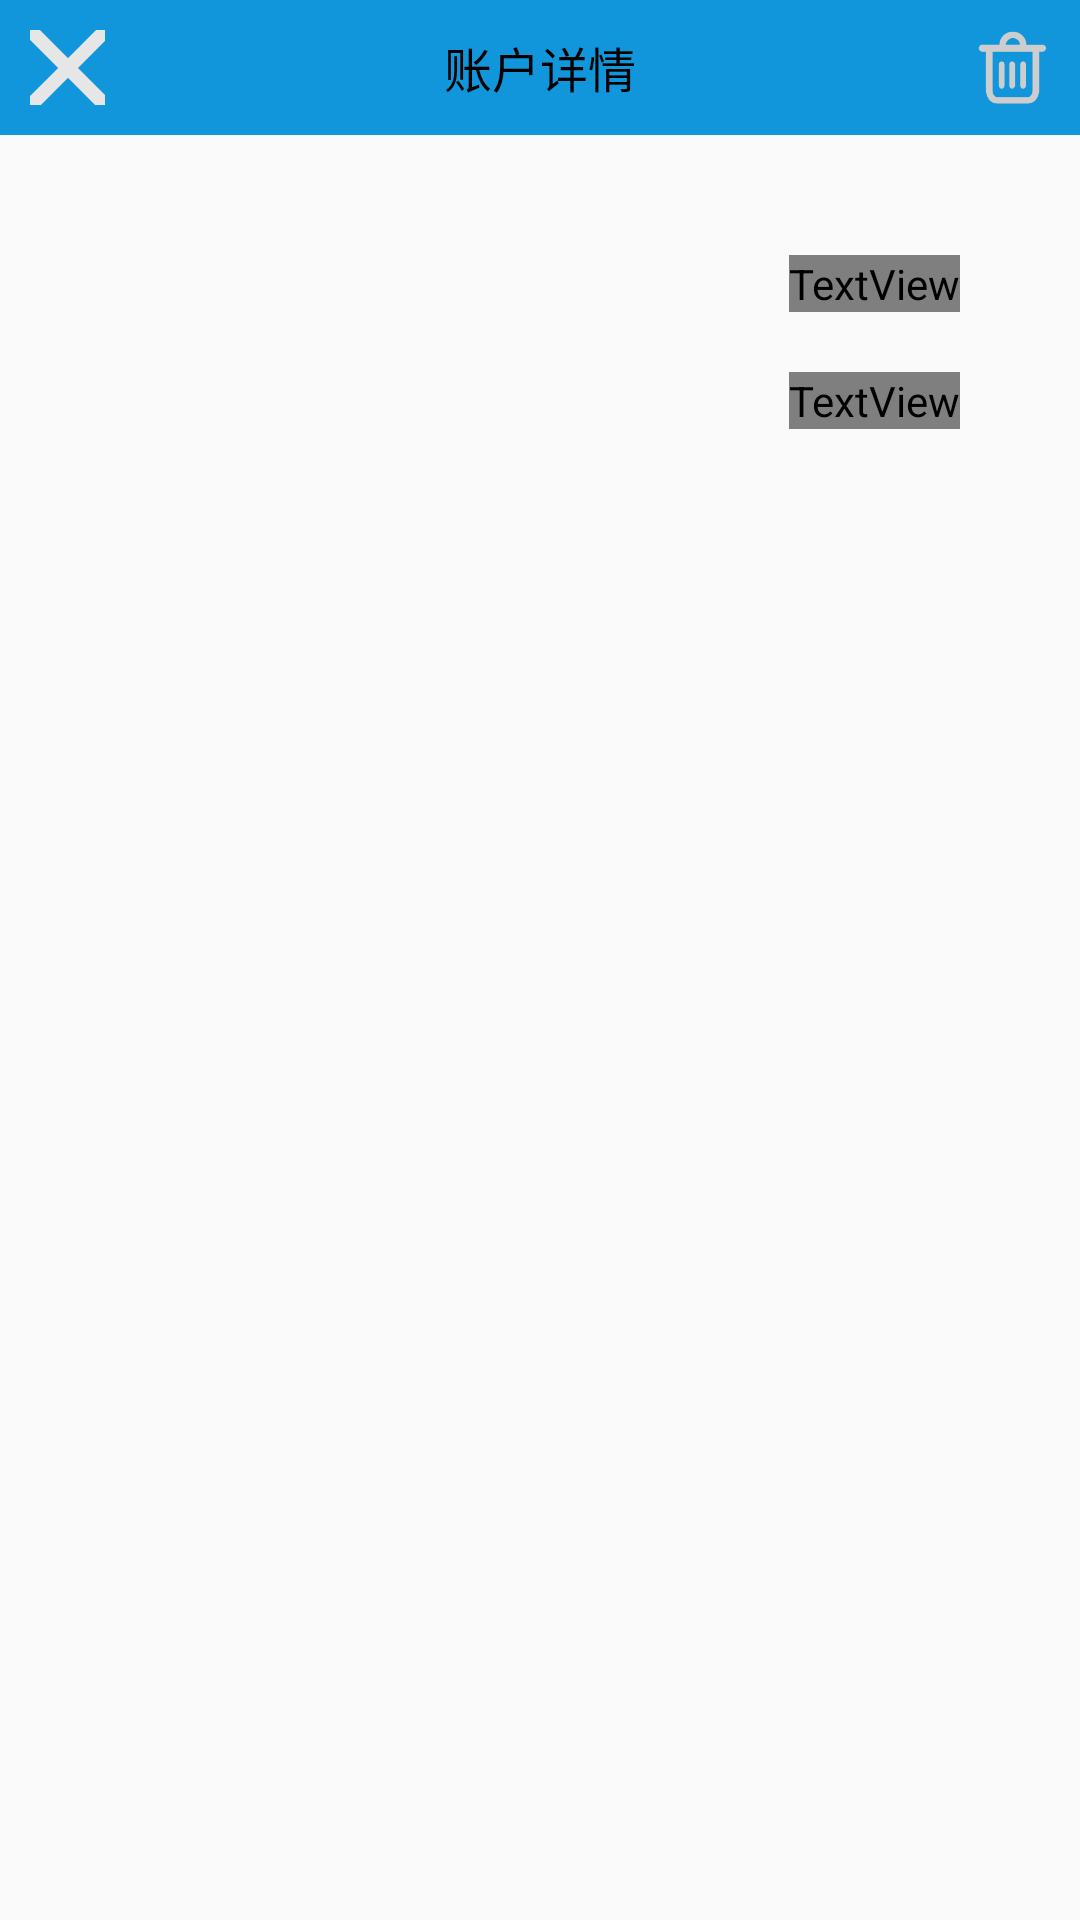

Icon bounding boxes for this 1080*1920 phone screenshot, format box=[x1, y1, x2, y2]:
ac delete: box=[978, 31, 1046, 104]
close: box=[30, 30, 105, 105]
